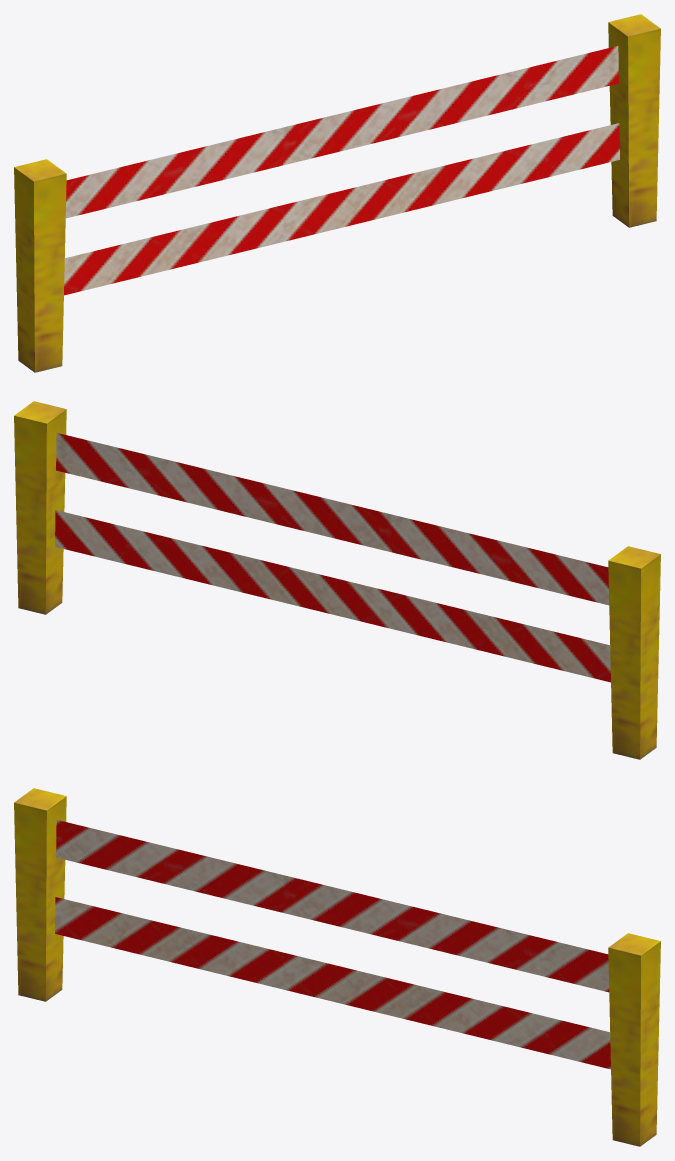
File: border_ribbon_red_white.FBX
3 views of the same model, one above another, from view 1: azimuth 30°, elevation 25°; view 2: azimuth 150°, elevation 25°; view 3: azimuth 330°, elevation 25° (orthographic).
Visible parts, largest first — view 1: prop_border_ribbons, prop_border_ribbons_post; view 2: prop_border_ribbons, prop_border_ribbons_post; view 3: prop_border_ribbons, prop_border_ribbons_post.
Boxes of the visible parts, x1=… form: prop_border_ribbons: x1=14, y1=46, x2=619, y2=372; prop_border_ribbons_post: x1=608, y1=14, x2=660, y2=227; prop_border_ribbons: x1=55, y1=433, x2=660, y2=759; prop_border_ribbons_post: x1=14, y1=401, x2=66, y2=614; prop_border_ribbons: x1=14, y1=788, x2=610, y2=1069; prop_border_ribbons_post: x1=608, y1=933, x2=660, y2=1146.
Bounding box in the file's own units: 607 × 179 × 33.32.
Materials: 1 (1 with a texture image).
